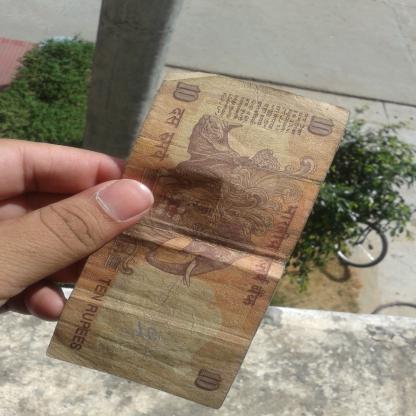Old10Back: (44, 70, 351, 411)
